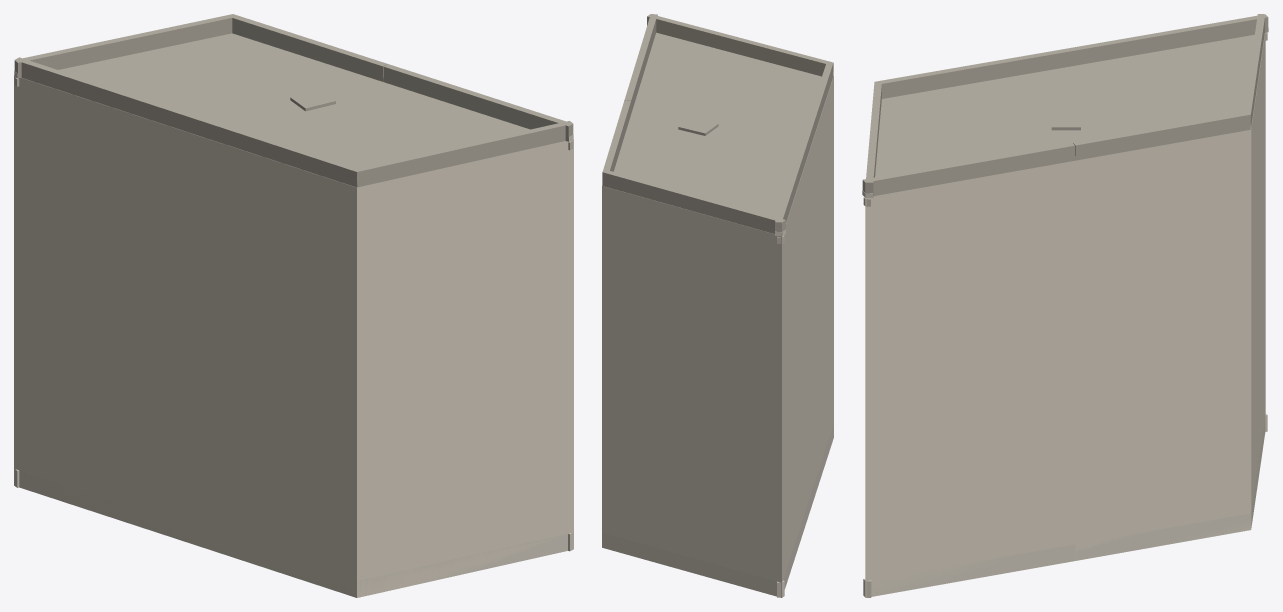
File: cop_equipamento_especial_01__way_227727240.fbx
The picture shows the model from 3 angles, left to right: view 1: azimuth 30°, elevation 25°; view 2: azimuth 150°, elevation 25°; view 3: azimuth 270°, elevation 25°; orthographic projection. The views are drawn at different scales.
Visible parts, largest first — view 1: cop_equipamento_especial_01__way_227727240_wall, cop_equipamento_especial_01__way_227727240_roof, cop_equipamento_especial_01__way_227727240_stone; view 2: cop_equipamento_especial_01__way_227727240_wall, cop_equipamento_especial_01__way_227727240_roof, cop_equipamento_especial_01__way_227727240_stone; view 3: cop_equipamento_especial_01__way_227727240_wall, cop_equipamento_especial_01__way_227727240_roof, cop_equipamento_especial_01__way_227727240_stone.
Part boxes in pixels (x1,y1,x2,y2): cop_equipamento_especial_01__way_227727240_wall: (14,75,573,597); cop_equipamento_especial_01__way_227727240_roof: (14,14,573,187); cop_equipamento_especial_01__way_227727240_stone: (14,71,573,597); cop_equipamento_especial_01__way_227727240_wall: (602,76,833,597); cop_equipamento_especial_01__way_227727240_roof: (602,14,833,235); cop_equipamento_especial_01__way_227727240_stone: (602,72,833,597); cop_equipamento_especial_01__way_227727240_wall: (865,33,1265,597); cop_equipamento_especial_01__way_227727240_roof: (862,14,1268,197); cop_equipamento_especial_01__way_227727240_stone: (862,28,1268,597).
Bounding box in the file's own units: 1631 × 1869 × 1657.
